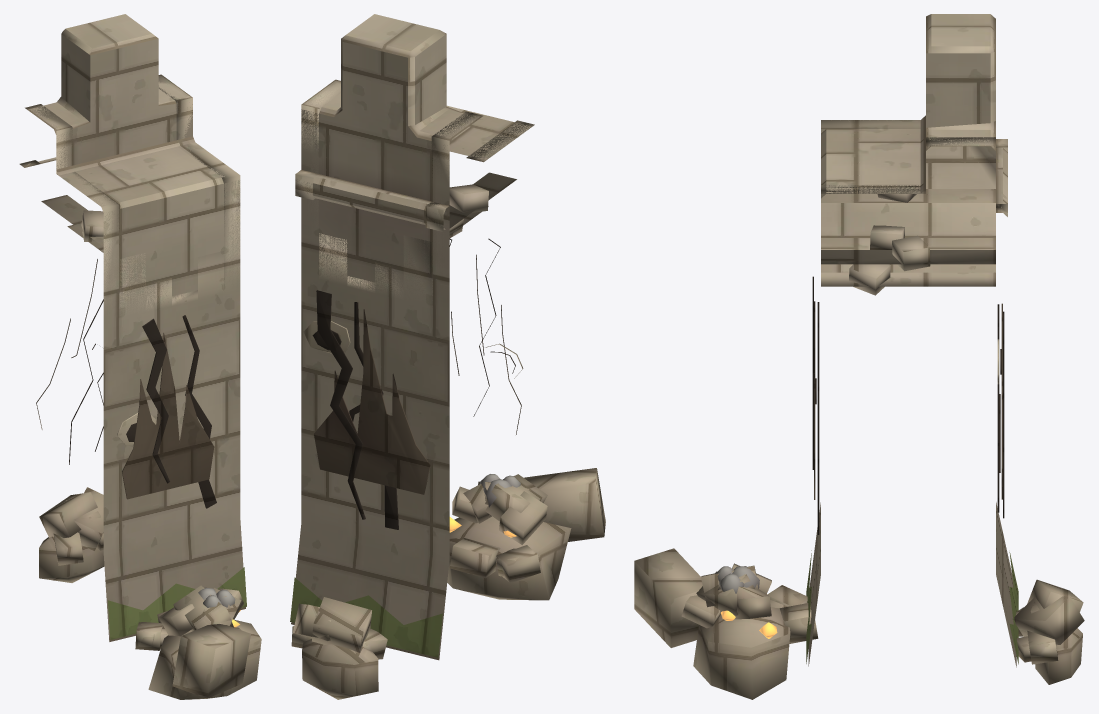
Rendered from wall.segment.glb.
The picture shows the model from 3 angles, left to right: view 1: azimuth 30°, elevation 25°; view 2: azimuth 150°, elevation 25°; view 3: azimuth 270°, elevation 25°; orthographic projection. The views are drawn at different scales.
Visible parts, largest first — view 1: intact, castle.wall.segment.mesh, rubble.2, damage.2, damage.3, chips.1, cracks.2, damage.1, fire.smoke.0; view 2: castle.wall.segment.mesh, intact, rubble.2, damage.2, damage.3, chips.1, cracks.2, damage.1, scars.1, fire.smoke.0; view 3: damage.2, rubble.2, intact, castle.wall.segment.mesh, chips.1, damage.1, cracks.2, damage.3, fire.smoke.0.
Boxes of the visible parts, left/top/right/bottom form: intact: left=25, top=14, right=240, bottom=322; castle.wall.segment.mesh: left=103, top=290, right=246, bottom=641; rubble.2: left=39, top=487, right=261, bottom=699; damage.2: left=19, top=74, right=240, bottom=322; damage.3: left=36, top=259, right=214, bottom=499; chips.1: left=53, top=532, right=167, bottom=650; cracks.2: left=95, top=318, right=169, bottom=483; damage.1: left=69, top=299, right=216, bottom=508; fire.smoke.0: left=198, top=587, right=235, bottom=607; castle.wall.segment.mesh: left=290, top=275, right=449, bottom=660; intact: left=295, top=14, right=531, bottom=310; rubble.2: left=293, top=468, right=605, bottom=699; damage.2: left=295, top=79, right=534, bottom=311; damage.3: left=314, top=254, right=521, bottom=494; chips.1: left=291, top=538, right=540, bottom=659; cracks.2: left=316, top=238, right=500, bottom=519; damage.1: left=312, top=238, right=515, bottom=529; scars.1: left=303, top=321, right=523, bottom=378; fire.smoke.0: left=480, top=474, right=520, bottom=507; damage.2: left=821, top=120, right=1007, bottom=295; rubble.2: left=634, top=548, right=1084, bottom=699; intact: left=821, top=14, right=1007, bottom=216; castle.wall.segment.mesh: left=806, top=502, right=1018, bottom=667; chips.1: left=767, top=585, right=1058, bottom=664; damage.1: left=815, top=302, right=1001, bottom=534; cracks.2: left=812, top=276, right=1004, bottom=518; damage.3: left=814, top=301, right=1002, bottom=499; fire.smoke.0: left=715, top=566, right=759, bottom=593.
Size of the model in its own units: 1 by 4.16 by 2.58.
3 materials, 1 textured.
